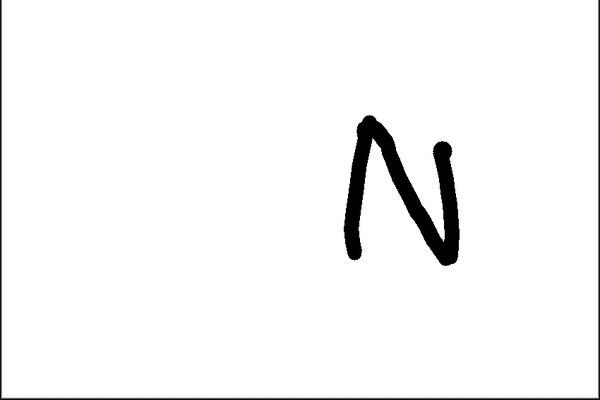N: (342, 111, 466, 275)
